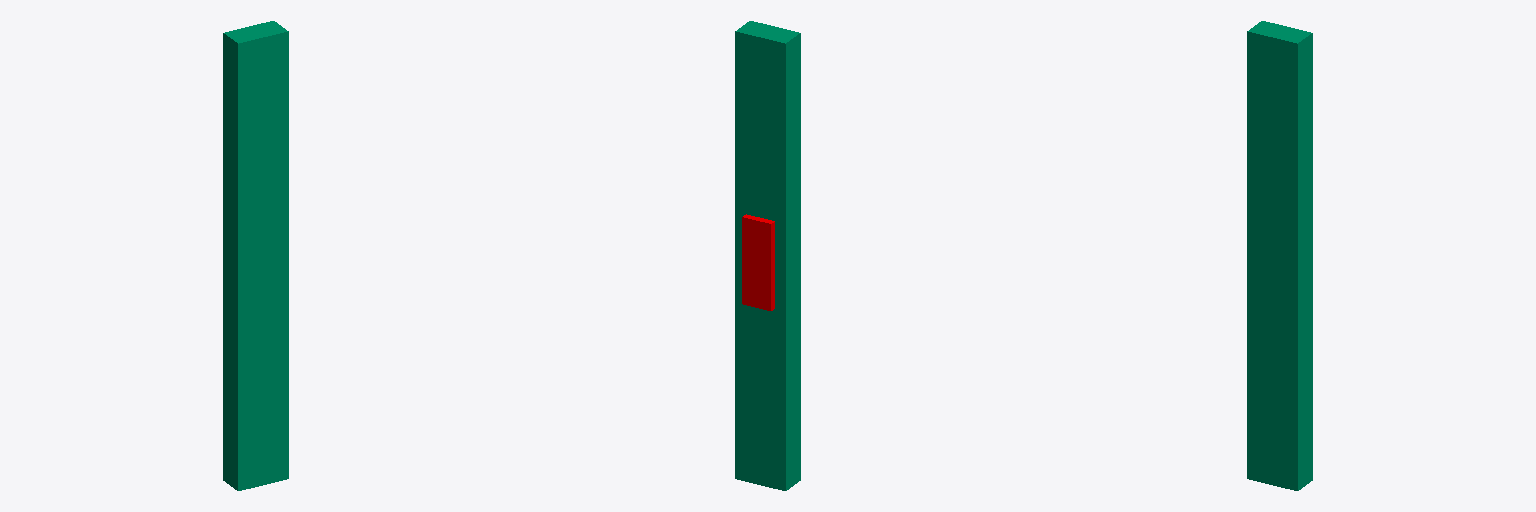
URDF robot description (knife):
<?xml version='1.0' encoding='utf-8'?>
<robot name="knife">
  <link name="base" /><joint name="joint_0" type="fixed"><origin xyz="0 0 0" rpy="0 0 0" /><parent link="base" /><child link="link_0" /></joint><link name="link_1">
    <visual name="link_1">
      <origin xyz="0 0.005651 0" rpy="0 0 0" />
      <geometry>
        <box size="0.0101592869760674 0.0023392670494685056 0.029078323153096965" /></geometry>
    <material name="red"><color rgba="1 0 0 1" /></material></visual>
    <collision>
      <origin xyz="0 0.005651 0" rpy="0 0 0" />
      <geometry>
        <box size="0.0101592869760674 0.0023392670494685056 0.029078323153096965" /></geometry>
    </collision>
    </link>
  <joint name="joint_1" type="prismatic">
    <origin xyz="0 0 0" />
    <axis xyz="0 0 1" />
    <child link="link_1" />
    <parent link="link_0" />
    <limit lower="-0.030644" upper="0.019356" effort="100.0" velocity="1.0" />
  </joint>
  <link name="link_0">
    <visual name="link_0">
      <origin xyz="0 0 0" />
      <geometry>
        <box size="0.017577496858613494 0.008962688847330978 0.14905540657016744" /></geometry>
    </visual>
    <collision>
      <origin xyz="0 0 0" />
      <geometry>
        <box size="0.017577496858613494 0.008962688847330978 0.14905540657016744" /></geometry>
    </collision>
    </link>
</robot>

--- What the picture shows (computed from the rendered views, not written in the file) ---
Views: 3 orthographic renders of the robot side by side, from view 1: azimuth 30°, elevation 25°; view 2: azimuth 150°, elevation 25°; view 3: azimuth 330°, elevation 25°.
Robot: knife — 3 links, 2 joints (1 prismatic, 1 fixed); root link base; default pose: every joint at zero.
Visible links, largest first — view 1: link_0; view 2: link_0, link_1; view 3: link_0.
Boxes of the visible links, left/top/right/bottom form: link_0: left=223, top=21, right=288, bottom=490; link_0: left=735, top=21, right=800, bottom=490; link_1: left=742, top=214, right=774, bottom=310; link_0: left=1247, top=21, right=1312, bottom=490.
Size in the robot's own frame: 0.0176 by 0.0113 by 0.1491 metres.
Geometry: primitives only (box / cylinder / sphere), no mesh files.
